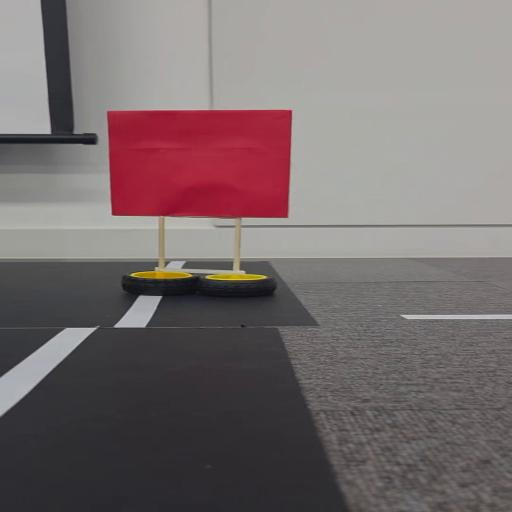Sign_A: (98, 105, 293, 295)
